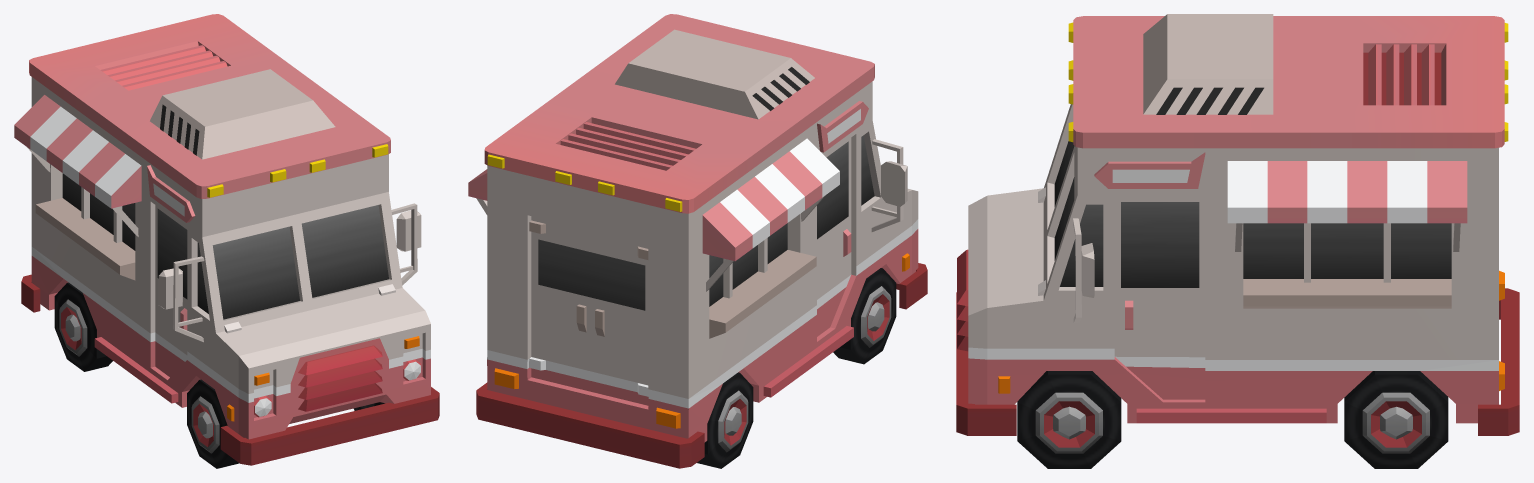
File: head_SP1_1.fbx
The picture shows the model from 3 angles, left to right: view 1: azimuth 30°, elevation 25°; view 2: azimuth 150°, elevation 25°; view 3: azimuth 270°, elevation 25°; orthographic projection. The views are drawn at different scales.
Parts seen in each view (by area): view 1: head_SP1_1; view 2: head_SP1_1; view 3: head_SP1_1.
Boxes of the visible parts, x1,y1,x2,y2 form: head_SP1_1: (14,14,439,468); head_SP1_1: (468,14,927,468); head_SP1_1: (956,14,1519,468).
Bounding box in the file's own units: 1988 × 2172 × 3017.
